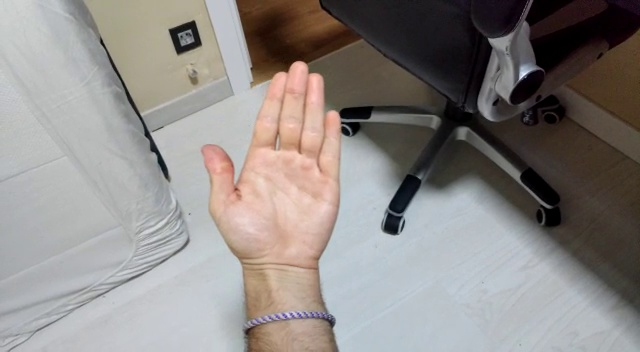Palm: (199, 61, 350, 301)
